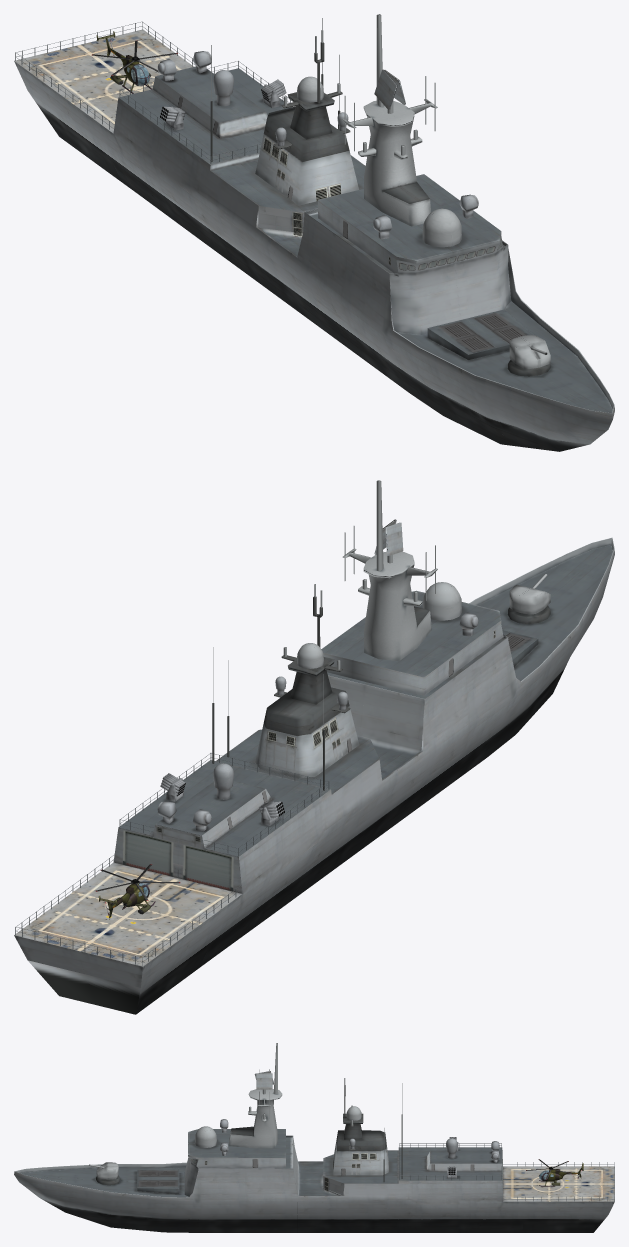
File: low_poly_frigate_ship_with_helicopter.glb
3 views of the same model, one above another, from view 1: azimuth 30°, elevation 25°; view 2: azimuth 150°, elevation 25°; view 3: azimuth 270°, elevation 25° (orthographic). The views are drawn at different scales.
Visible parts, largest first — view 1: pCube35, MD_501:Helicopter; view 2: pCube35, MD_501:Helicopter; view 3: pCube35, MD_501:Helicopter.
Part boxes in pixels (x1,y1,x2,y2): pCube35: (14,14,614,451); MD_501:Helicopter: (96,31,152,93); pCube35: (14,480,614,1014); MD_501:Helicopter: (98,883,155,919); pCube35: (14,1043,614,1232); MD_501:Helicopter: (539,1163,583,1186).
Size of the model in its own units: 14.5 by 34.19 by 104.
Materials: 5 (4 with a texture image).
